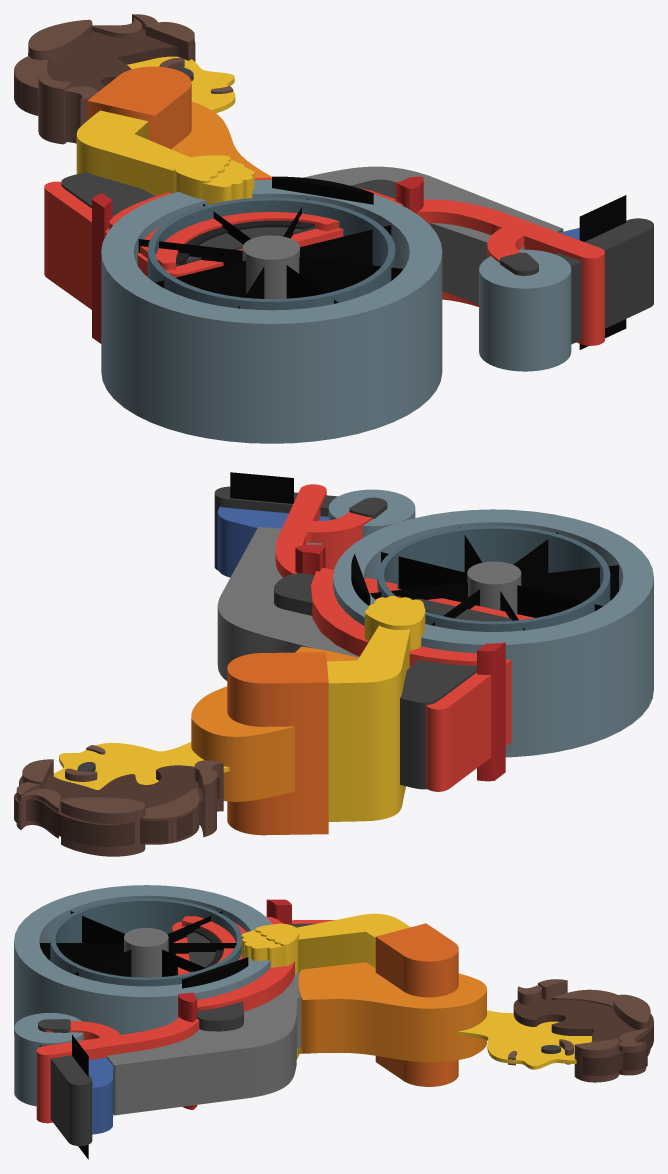
Rendered from emoji_u1f9d1_200d_1f9bd_200d_27a1.glb.
3 renders of one model, top to bottom at view 1: azimuth 30°, elevation 25°; view 2: azimuth 150°, elevation 25°; view 3: azimuth 270°, elevation 25°, orthographic. The views are drawn at different scales.
Parts seen in each view (by area): view 1: emoji_u1f9d1_200d_1f9bd_200d_27a1; view 2: emoji_u1f9d1_200d_1f9bd_200d_27a1; view 3: emoji_u1f9d1_200d_1f9bd_200d_27a1.
Boxes of the visible parts, box(x1,y1,x2,y2) form: emoji_u1f9d1_200d_1f9bd_200d_27a1: box(14, 14, 653, 443); emoji_u1f9d1_200d_1f9bd_200d_27a1: box(14, 472, 653, 856); emoji_u1f9d1_200d_1f9bd_200d_27a1: box(14, 885, 653, 1159).
Bounding box in the file's own units: 0.022 × 0.007 × 0.0324.
